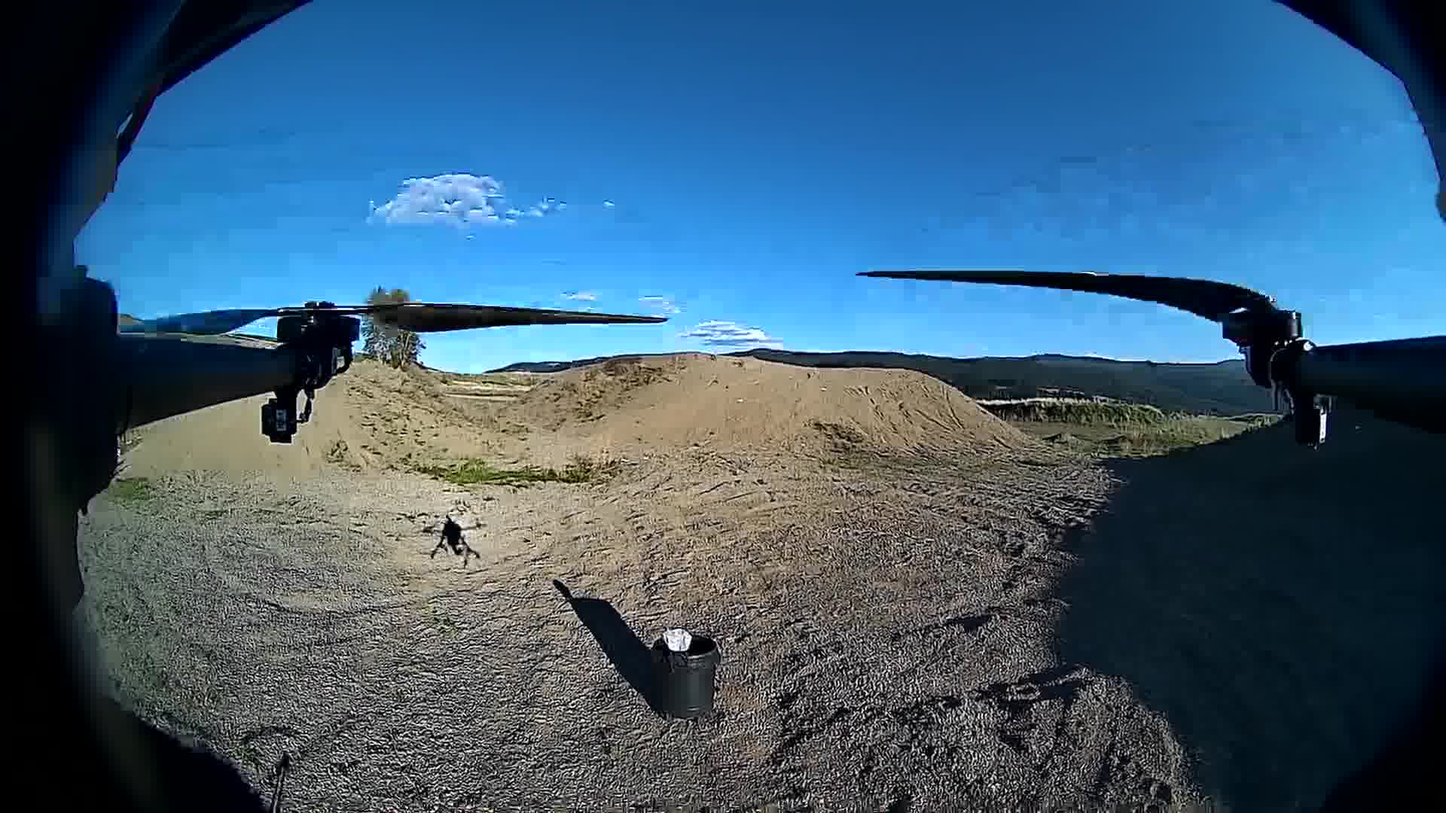Target: (662, 627, 693, 653)
